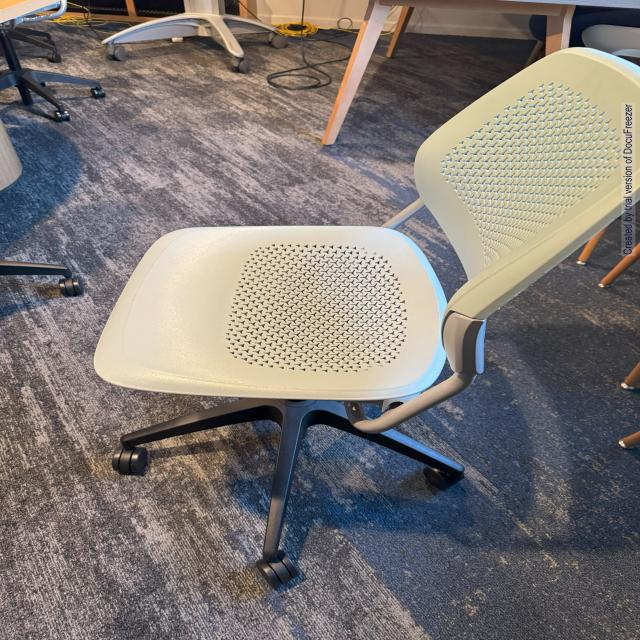chair: (85, 42, 640, 595)
